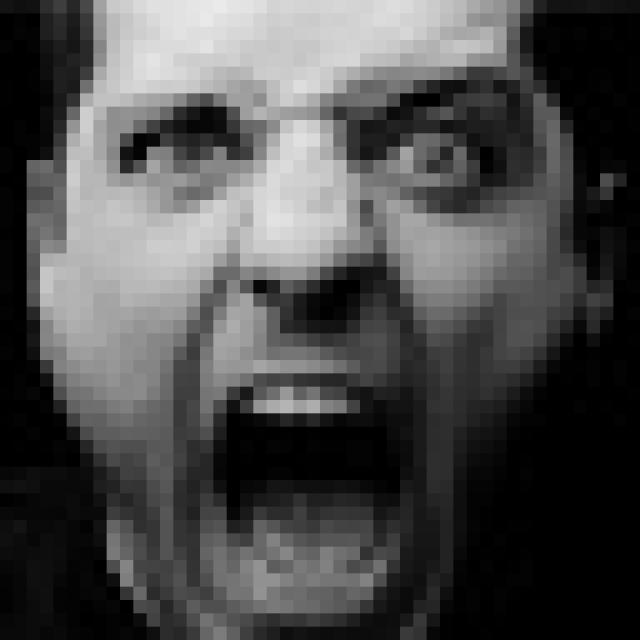angry: (102, 70, 521, 623)
